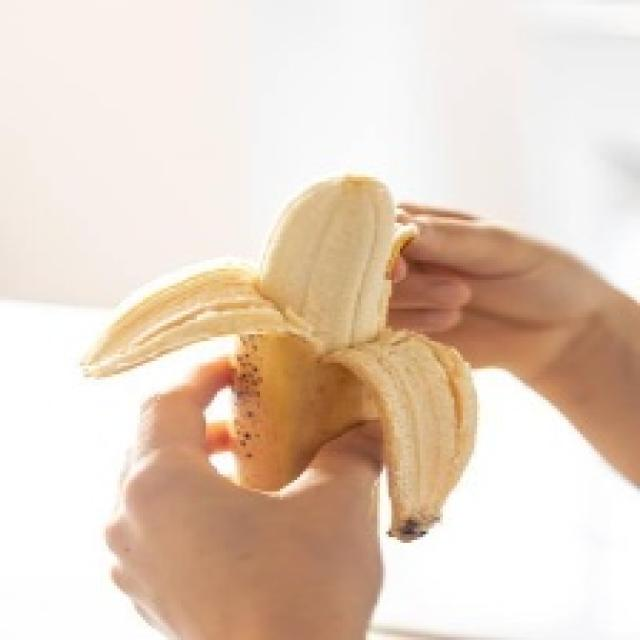Banana: (77, 171, 477, 543)
